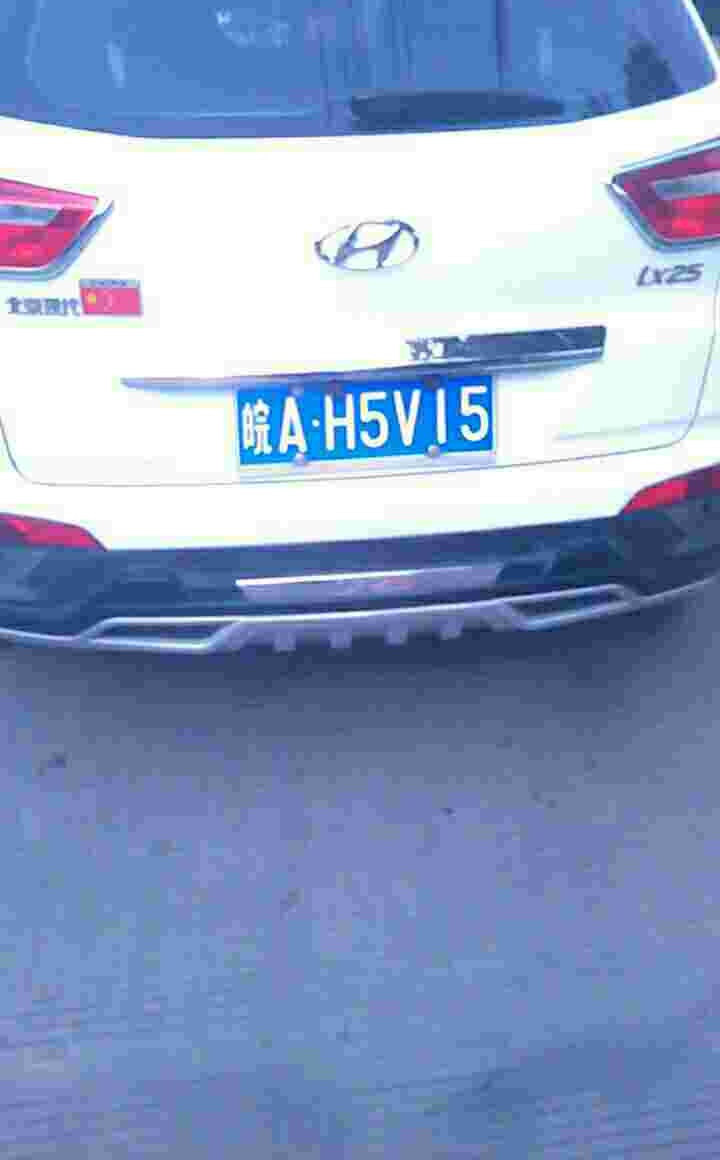license_plate: (231, 379, 489, 469)
